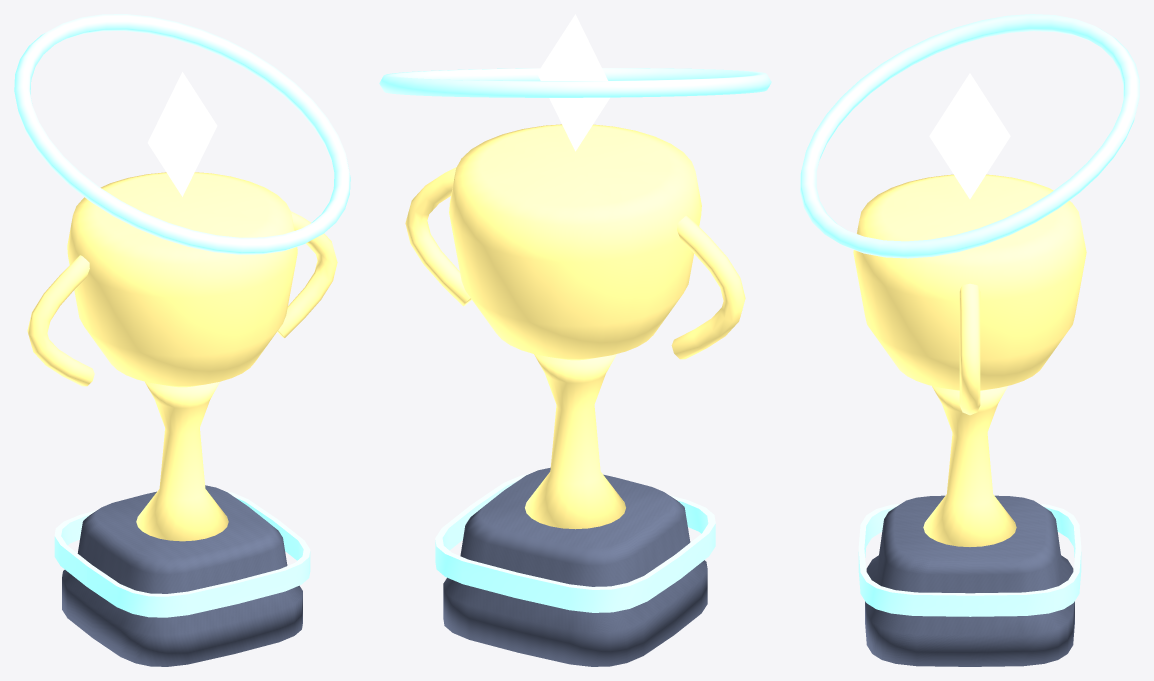
File: Infinity-Cup-Exact-Mesh-v2.0.0.glb
3 views of the same model, side by side, from view 1: azimuth 30°, elevation 25°; view 2: azimuth 150°, elevation 25°; view 3: azimuth 270°, elevation 25° (orthographic). The views are drawn at different scales.
Parts seen in each view (by area): view 1: trophyCup, trophyPlinth, infinityHalo, trophyStem, plinthBand, trophyStar, trophyHandleR, trophyHandleL; view 2: trophyCup, trophyPlinth, trophyStem, infinityHalo, plinthBand, trophyStar, trophyHandleR, trophyHandleL; view 3: trophyCup, trophyPlinth, infinityHalo, trophyStem, plinthBand, trophyStar, trophyHandleL.
Part boxes in pixels (left/top/right/bottom): trophyCup: left=67, top=172, right=297, bottom=387; trophyPlinth: left=62, top=485, right=302, bottom=666; infinityHalo: left=14, top=14, right=350, bottom=254; trophyStem: left=136, top=381, right=228, bottom=541; plinthBand: left=54, top=491, right=310, bottom=617; trophyStar: left=147, top=72, right=217, bottom=196; trophyHandleR: left=27, top=255, right=94, bottom=386; trophyHandleL: left=277, top=211, right=337, bottom=337; trophyCup: left=449, top=124, right=701, bottom=360; trophyPlinth: left=443, top=467, right=707, bottom=666; trophyStem: left=525, top=354, right=625, bottom=529; infinityHalo: left=379, top=68, right=771, bottom=97; plinthBand: left=435, top=473, right=715, bottom=612; trophyStar: left=537, top=14, right=609, bottom=151; trophyHandleR: left=671, top=215, right=745, bottom=359; trophyHandleL: left=405, top=167, right=471, bottom=306; trophyCup: left=853, top=174, right=1086, bottom=390; trophyPlinth: left=865, top=495, right=1074, bottom=666; infinityHalo: left=800, top=14, right=1139, bottom=258; trophyStem: left=923, top=386, right=1016, bottom=546; plinthBand: left=858, top=503, right=1081, bottom=616; trophyStar: left=929, top=73, right=1010, bottom=198; trophyHandleL: left=959, top=283, right=980, bottom=415.
Bounding box in the file's own units: 0.616 × 1.05 × 0.5824.
Materials: 4 (1 with a texture image).
